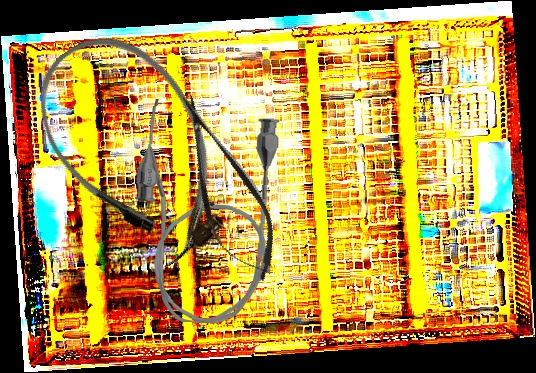Cannula: (13, 10, 257, 286), (128, 98, 281, 327)
Micro Scissor: (157, 82, 294, 293)
